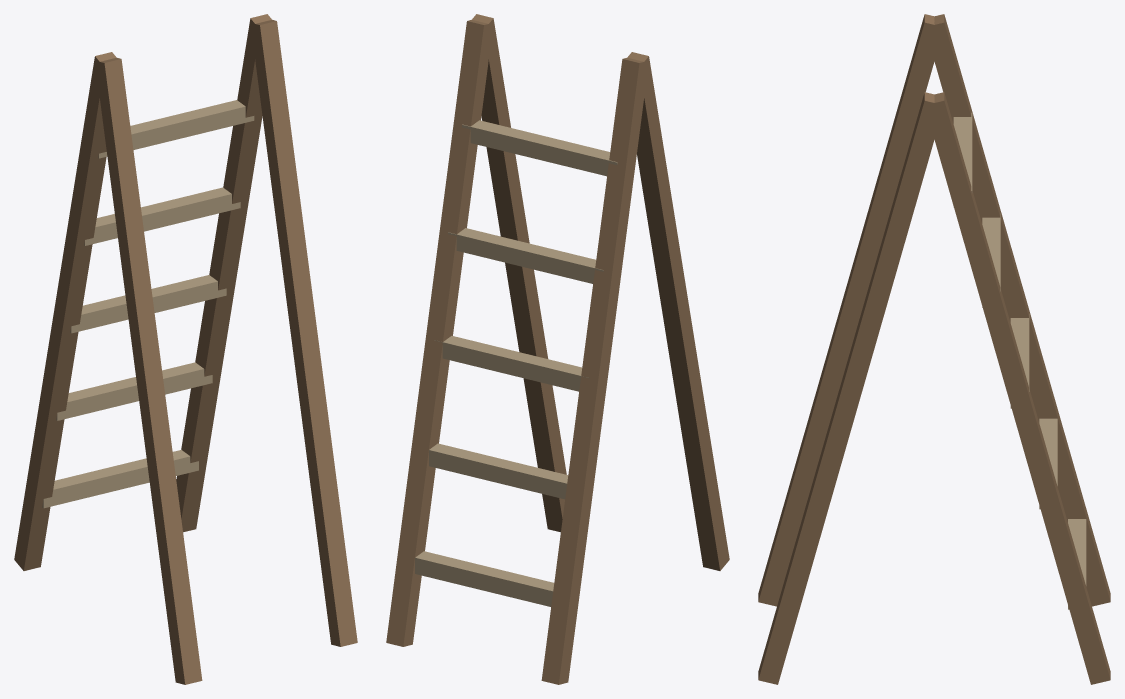
File: qc_garden_ladder.obj
3 views of the same model, side by side, from view 1: azimuth 30°, elevation 25°; view 2: azimuth 150°, elevation 25°; view 3: azimuth 270°, elevation 25° (orthographic). The views are drawn at different scales.
Visible parts, largest first — view 1: qc_garden_ladder; view 2: qc_garden_ladder; view 3: qc_garden_ladder.
Part boxes in pixels (x1=…): qc_garden_ladder: x1=14, y1=14, x2=357, y2=684; qc_garden_ladder: x1=386, y1=14, x2=729, y2=684; qc_garden_ladder: x1=758, y1=14, x2=1110, y2=684.
Size of the model in its own units: 0.555 by 1.74 by 0.9532.
